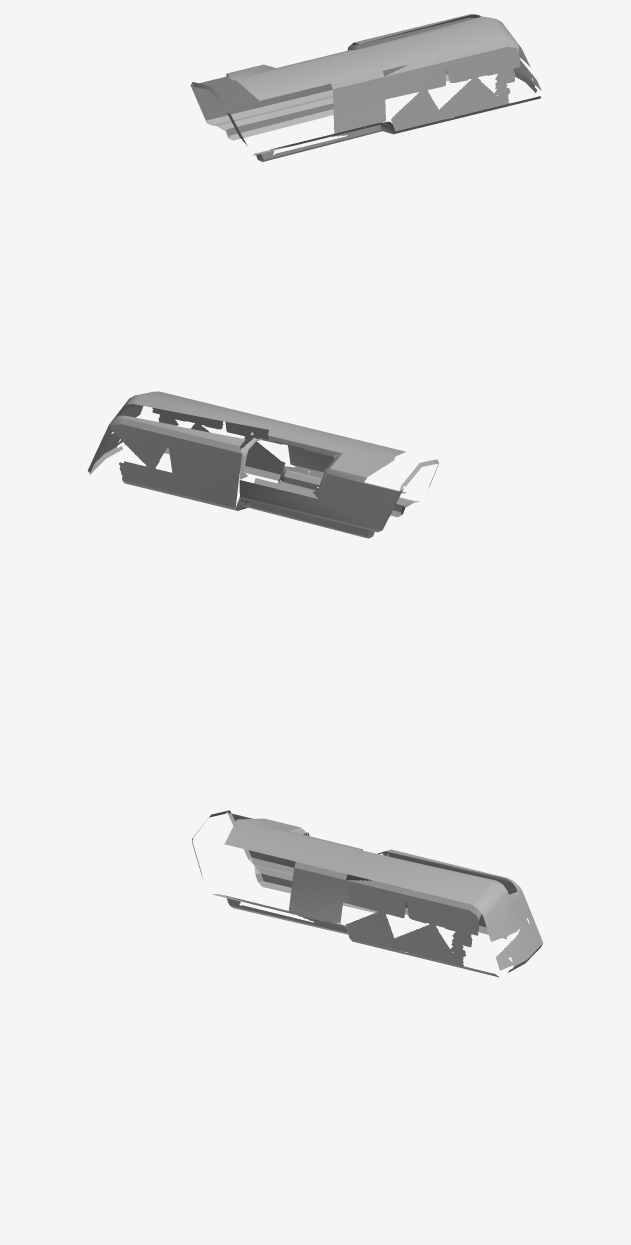
The model's file is magnum_w.fbx.
3 renders of one model, top to bottom at view 1: azimuth 30°, elevation 25°; view 2: azimuth 150°, elevation 25°; view 3: azimuth 330°, elevation 25°, orthographic.
Visible parts, largest first — view 1: Slide; view 2: Slide; view 3: Slide.
Boxes of the visible parts, x1=… form: Slide: x1=190, y1=14, x2=541, y2=161; Slide: x1=87, y1=391, x2=438, y2=538; Slide: x1=192, y1=810, x2=542, y2=977.
Size of the model in its own units: 19.57 by 10.87 by 2.69.
